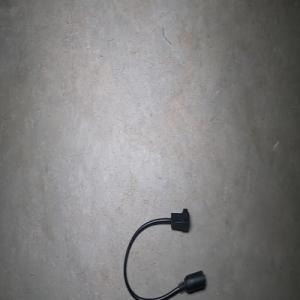Wire: (123, 208, 206, 300)
